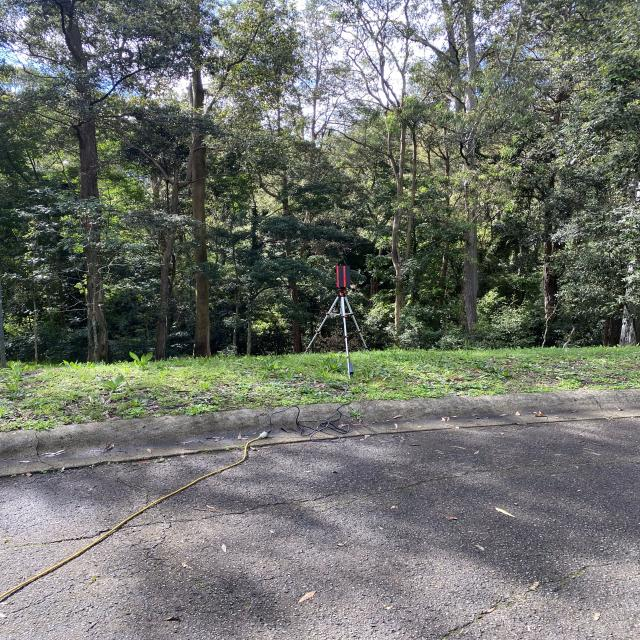matrix: (335, 265, 352, 289)
